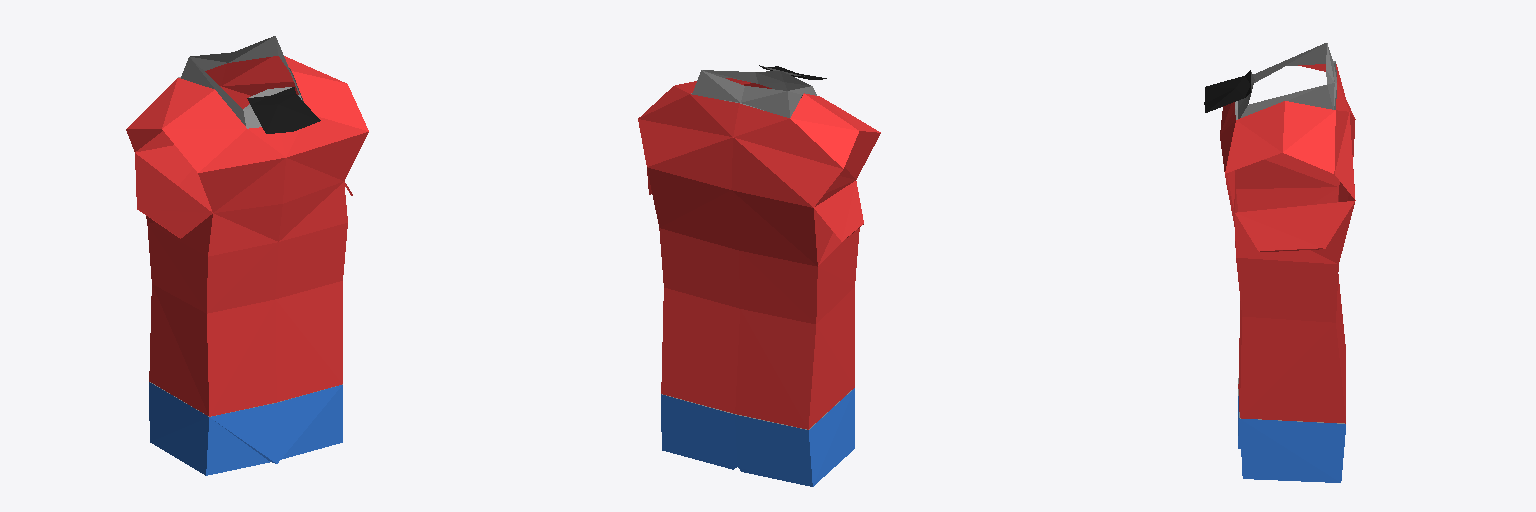
3 renders of one model, left to right at view 1: azimuth 30°, elevation 25°; view 2: azimuth 150°, elevation 25°; view 3: azimuth 270°, elevation 25°, orthographic.
Parts seen in each view (by area): view 1: Cube; view 2: Cube; view 3: Cube.
Part boxes in pixels (bbox=[...]): Cube: bbox=[126, 36, 368, 475]; Cube: bbox=[638, 65, 880, 486]; Cube: bbox=[1204, 43, 1355, 482].
Bounding box in the file's own units: 0.8529 × 1.53 × 0.5424.
6 materials, 3 textured.